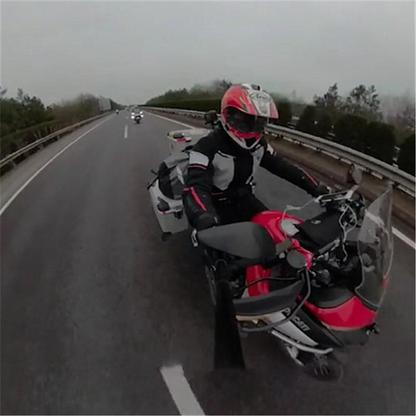target: (148, 80, 397, 387)
